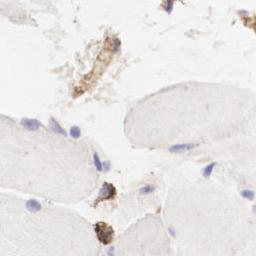nucleus: (167, 142, 199, 154), (49, 118, 67, 139), (200, 162, 216, 178), (19, 118, 38, 131), (26, 199, 41, 212), (139, 184, 157, 194), (238, 189, 255, 199), (94, 153, 102, 171), (70, 125, 80, 139), (103, 160, 112, 172), (168, 225, 176, 238), (114, 39, 122, 52), (106, 244, 114, 256), (98, 188, 108, 197), (168, 1, 174, 13), (235, 10, 248, 15), (252, 204, 256, 214)
positive_cell: (93, 182, 117, 207), (236, 11, 256, 32), (109, 37, 125, 53), (163, 1, 175, 15)
